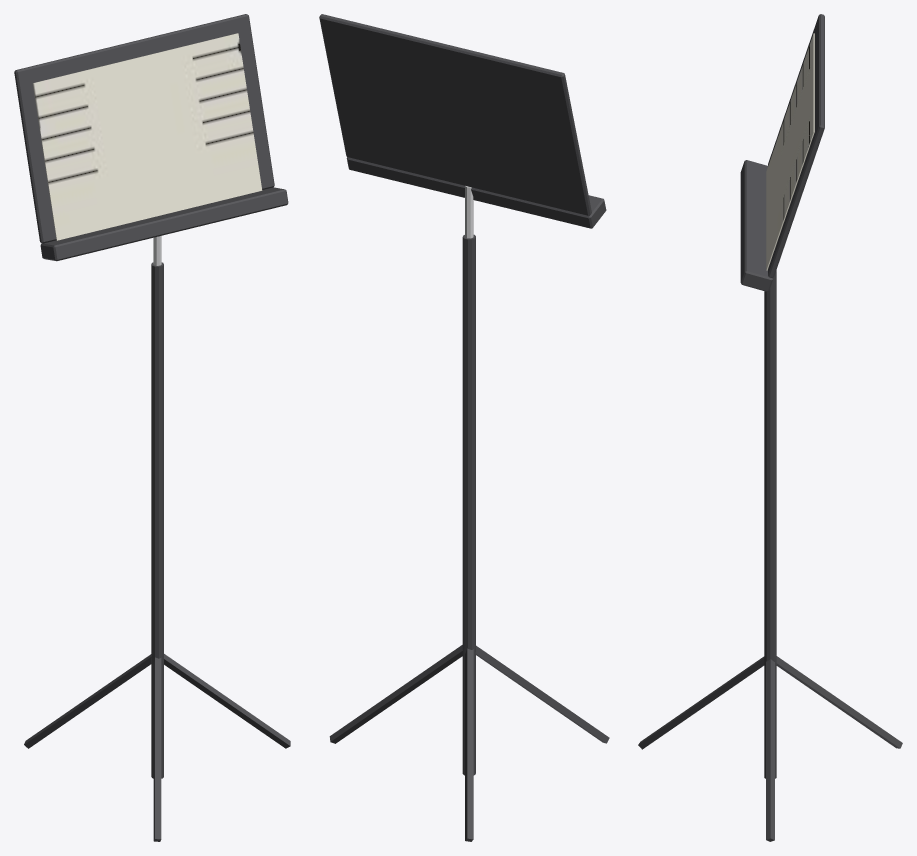
The model's file is estante_partitura.glb.
3 renders of one model, left to right at view 1: azimuth 30°, elevation 25°; view 2: azimuth 150°, elevation 25°; view 3: azimuth 270°, elevation 25°, orthographic. The views are drawn at different scales.
Visible parts, largest first — view 1: estante_partitura_partitura, estante_partitura_preto_palco; view 2: estante_partitura_preto_palco; view 3: estante_partitura_preto_palco, estante_partitura_partitura.
Boxes of the visible parts, x1,y1,x2,y2 form: estante_partitura_partitura: [32, 33, 262, 240]; estante_partitura_preto_palco: [14, 14, 290, 841]; estante_partitura_preto_palco: [319, 14, 609, 841]; estante_partitura_preto_palco: [638, 14, 902, 841]; estante_partitura_partitura: [766, 33, 814, 270].
Bounding box in the file's own units: 0.5356 × 1.47 × 0.4974.
Materials: 3 (1 with a texture image).
